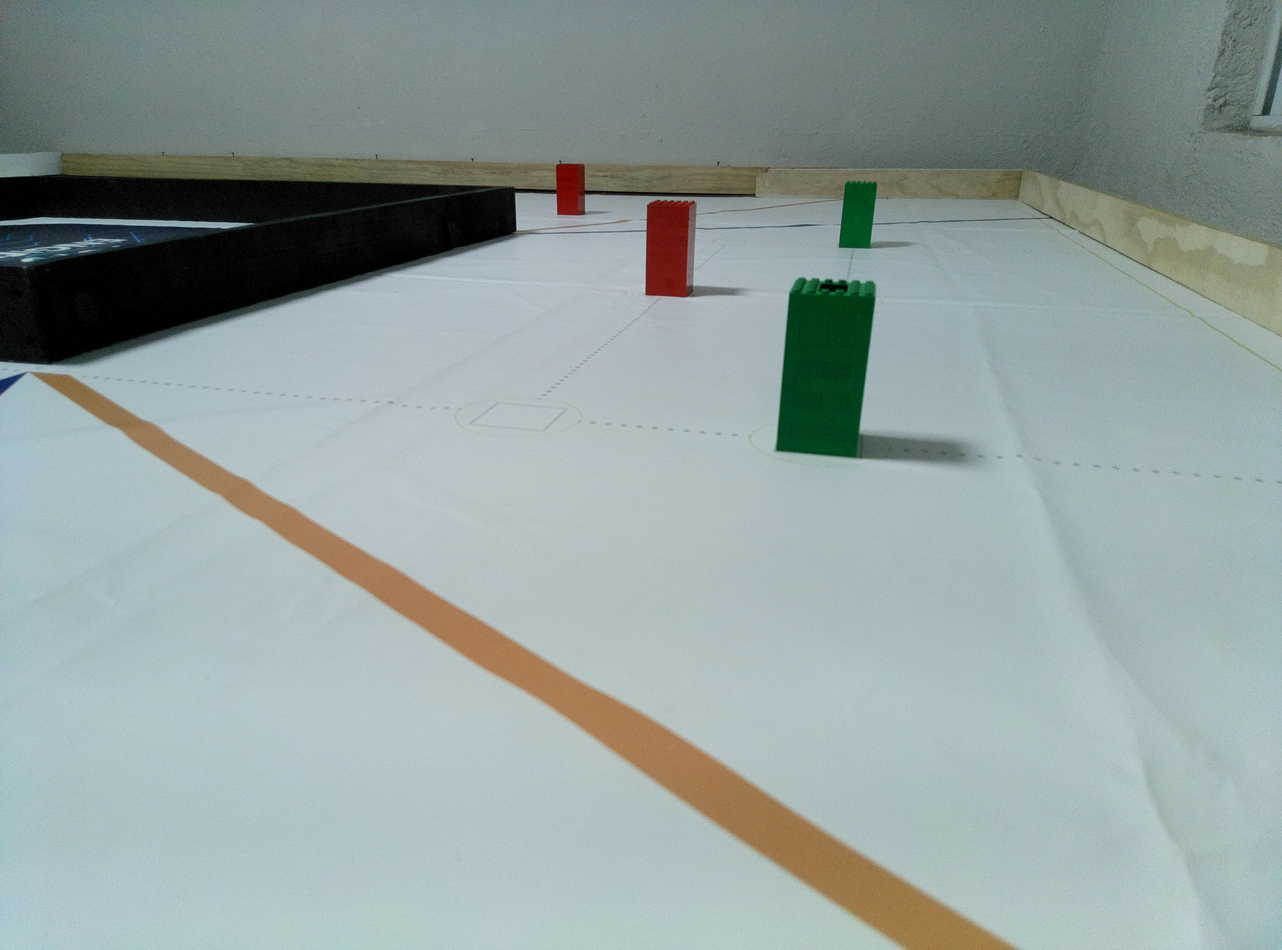greenbox: (774, 277, 880, 456), (837, 180, 879, 251)
redbox: (644, 200, 698, 298), (555, 162, 586, 216)
